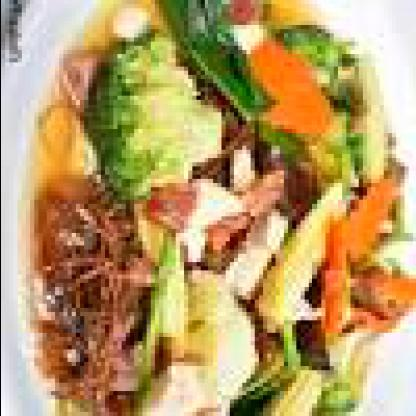Laadna: (4, 0, 395, 412)
